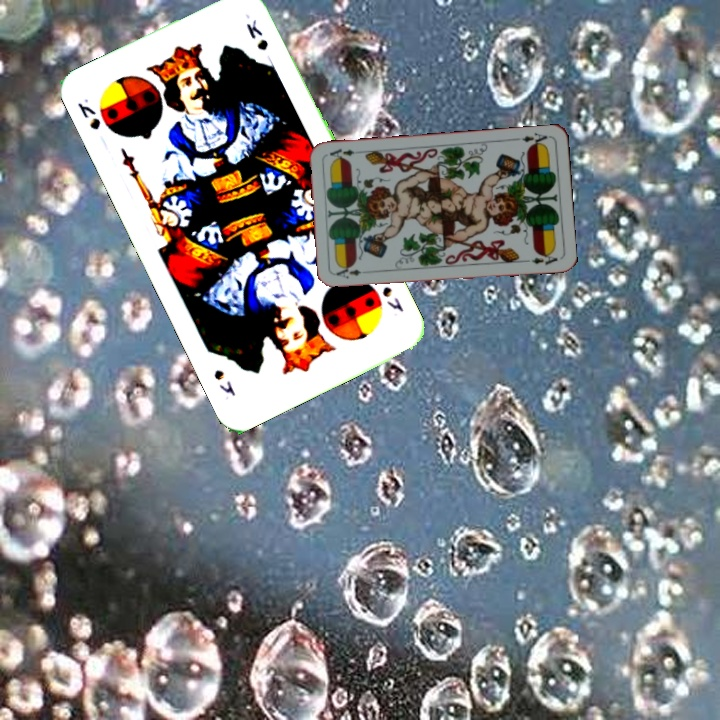EA: (511, 129, 552, 149), (332, 263, 364, 281)
SK: (73, 94, 103, 133), (378, 282, 406, 315)
